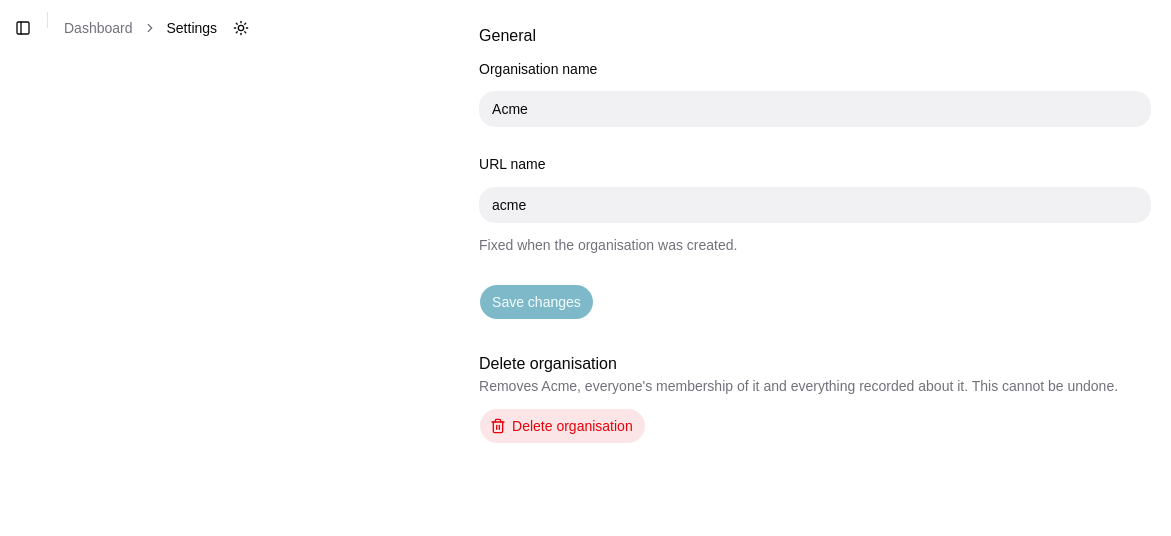
Test: OrgSettingsPage › lets an owner rename the organisation and refreshes the loaders
Expected: the field labelled "URL name" holds "acme", [479, 186, 1151, 222]
Expected: the button "Save changes" is disabled, [479, 284, 594, 320]
Replace the text in the field labelled "Organisation name" with "Acme Ltd": (815, 109) [479, 91, 1151, 127]
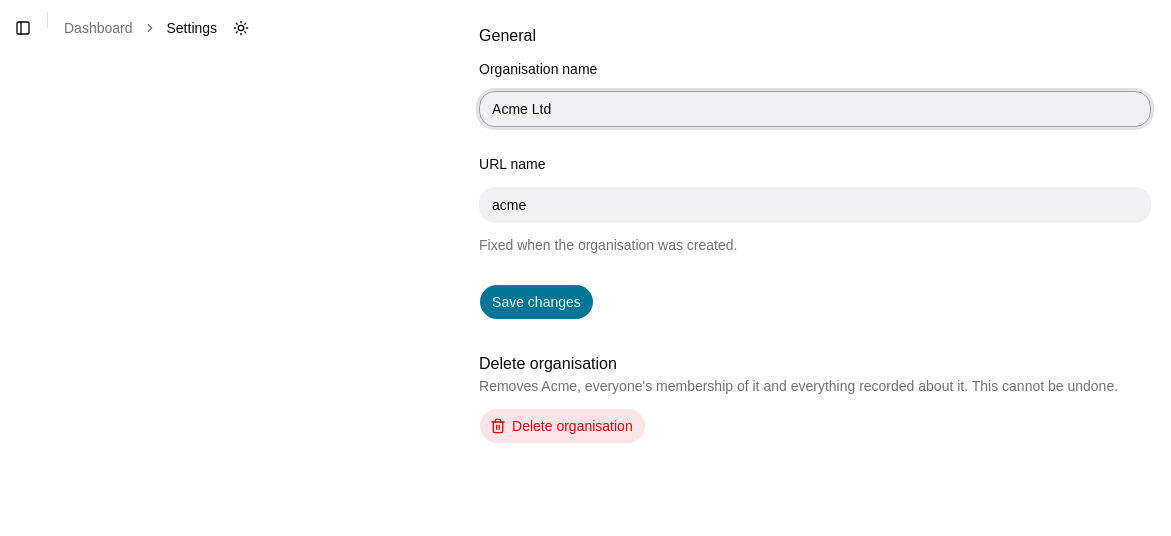
Expected: the button "Save changes" is enabled
Click the button "Save changes": (536, 302) [479, 284, 594, 320]
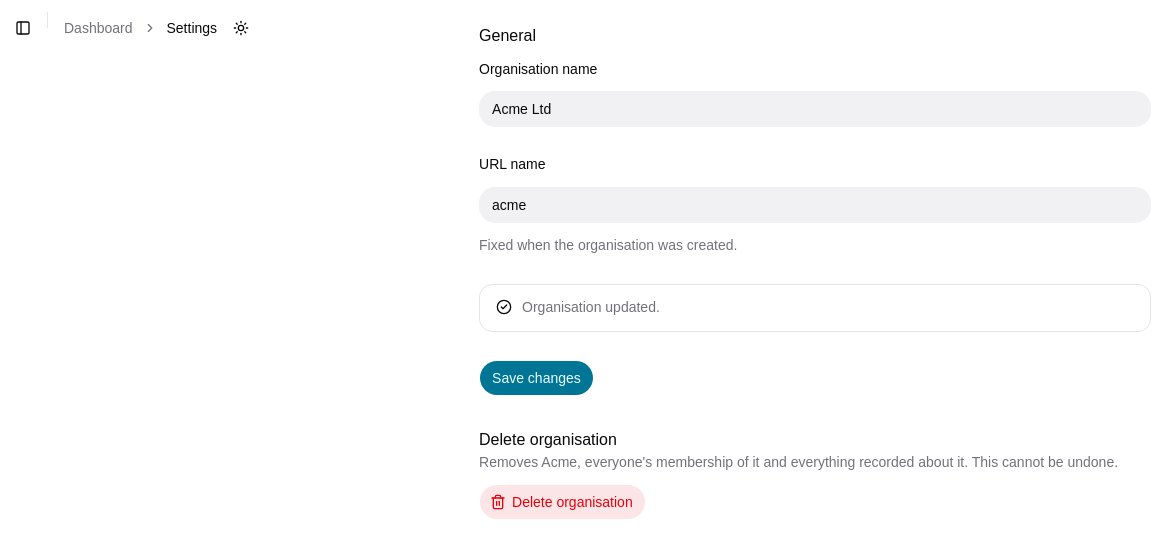
Expected: the text "Organisation updated." is shown, [522, 298, 660, 314]
